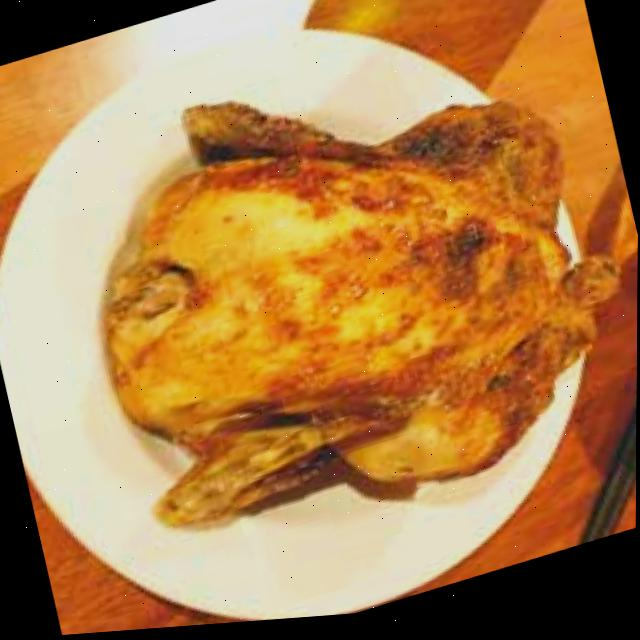鸡肉料理 含炸鸡: (44, 0, 640, 582)
